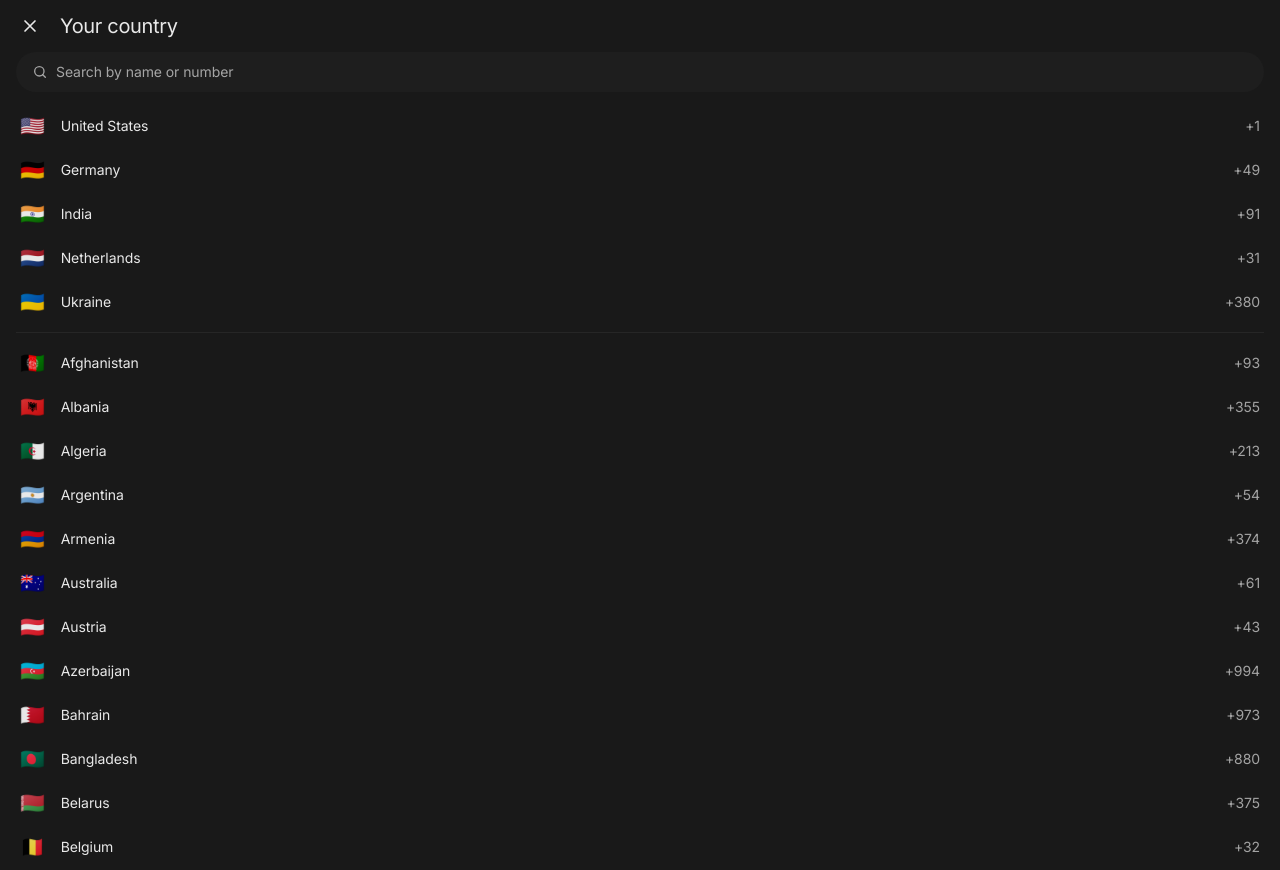
Test: CountryPicker › filters by dial code too
Type "+380" into the field labelled "Search by name or number" at x=652, y=72, box [56,62,1248,82]
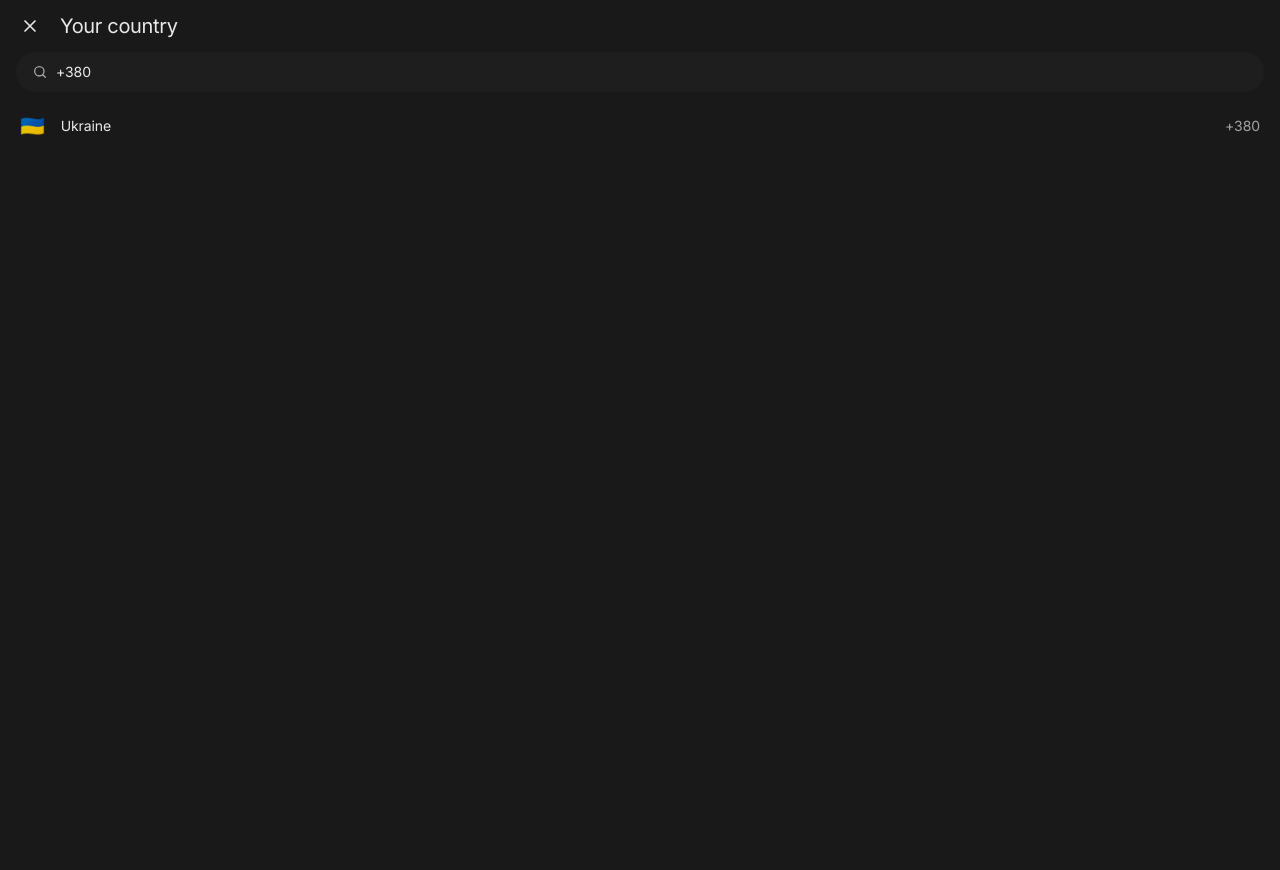
Expected: the elements with test id "country-name" read "Ukraine", in this order, [61,117,111,134]
